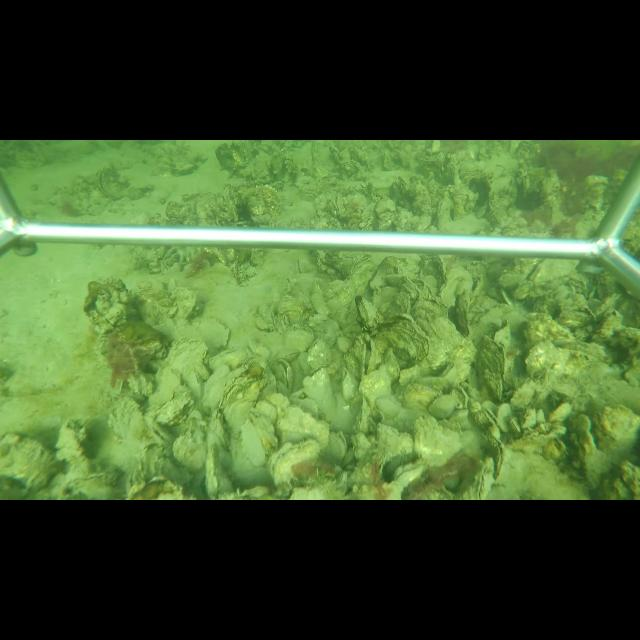Oyster-Closed: (412, 420, 478, 465), (275, 404, 331, 452), (269, 438, 321, 487), (375, 320, 431, 361), (476, 331, 508, 402), (162, 337, 210, 369), (145, 368, 183, 408), (194, 313, 232, 347), (439, 268, 472, 307), (465, 454, 493, 498), (485, 432, 508, 484), (97, 166, 129, 201), (307, 336, 334, 371), (425, 394, 458, 419), (357, 296, 378, 329), (372, 287, 398, 312), (353, 398, 370, 433), (384, 348, 401, 383), (311, 293, 336, 315), (455, 304, 471, 337), (507, 415, 519, 435)
Oyster-Open: (349, 329, 381, 377), (268, 359, 295, 390)
